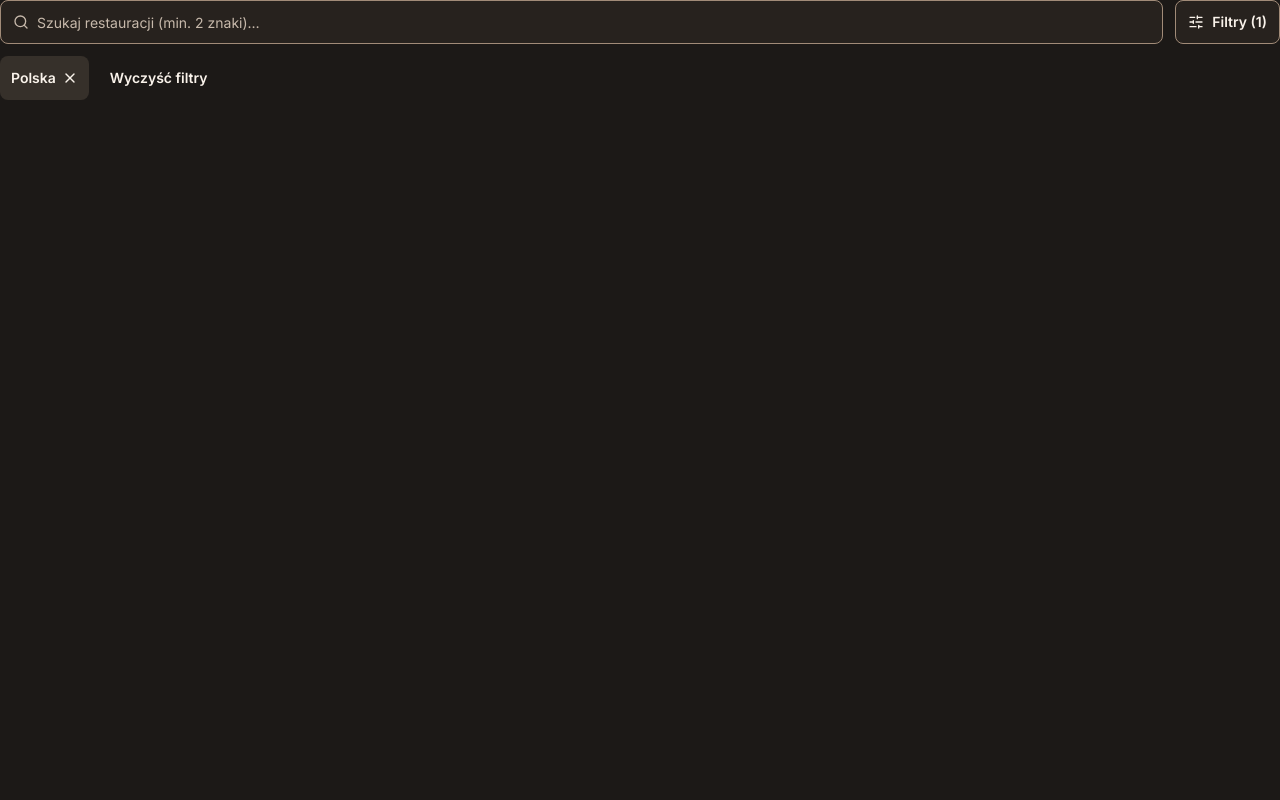
Test: restaurant filter panel › discards canceled choices and reopens the applied filters
Click the button with aria-label "Pokaż filtry": [1228, 22] box x1=1175 y1=0 x2=1279 y2=44
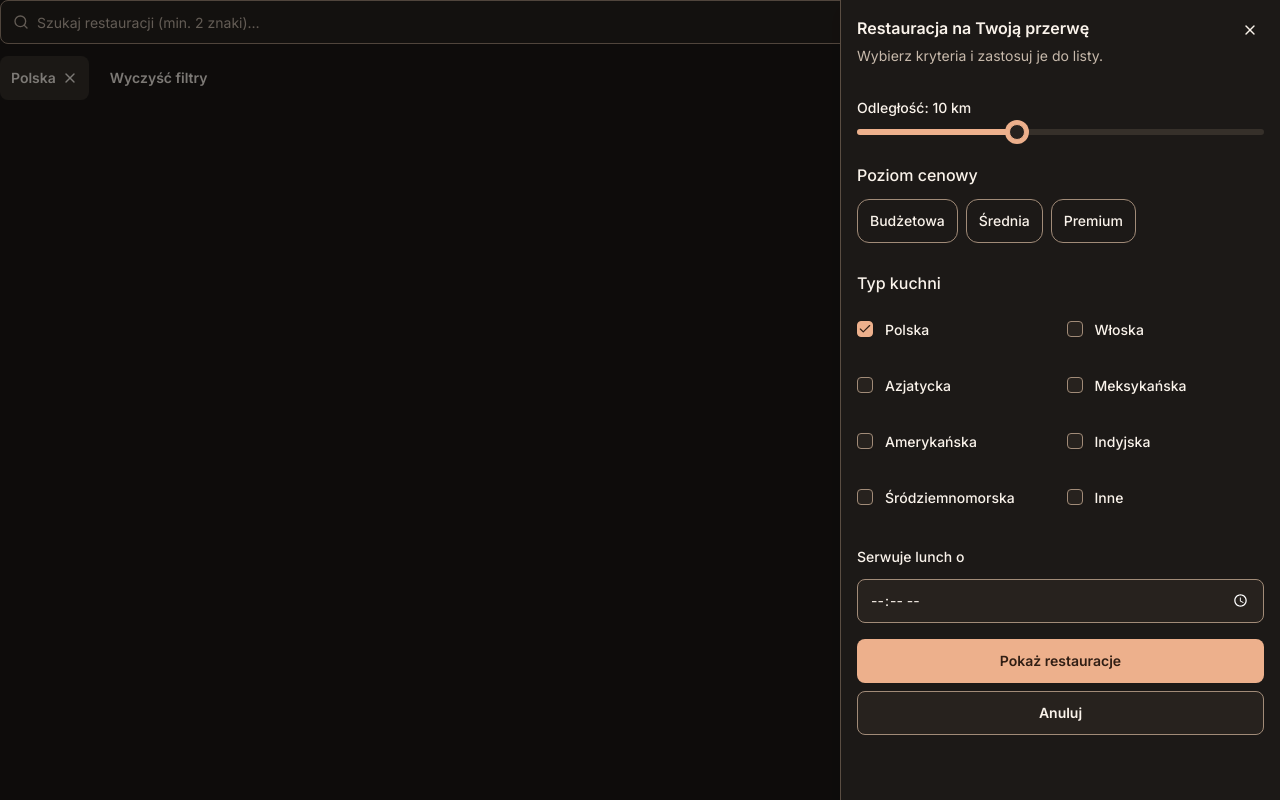
Click the 1st checkbox named "Polska": [865, 329] box x1=857 y1=321 x2=873 y2=337
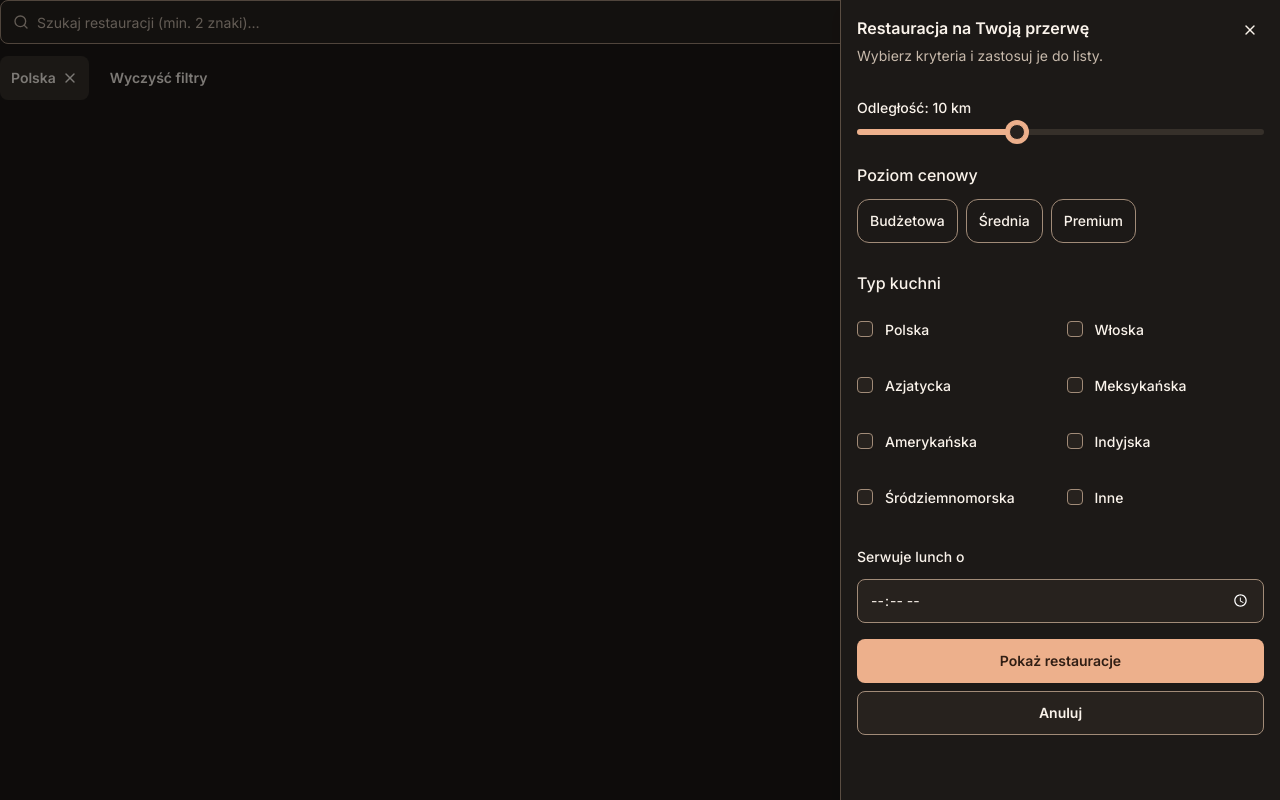
Click the button "Premium": [1093, 221] box x1=1051 y1=199 x2=1136 y2=243
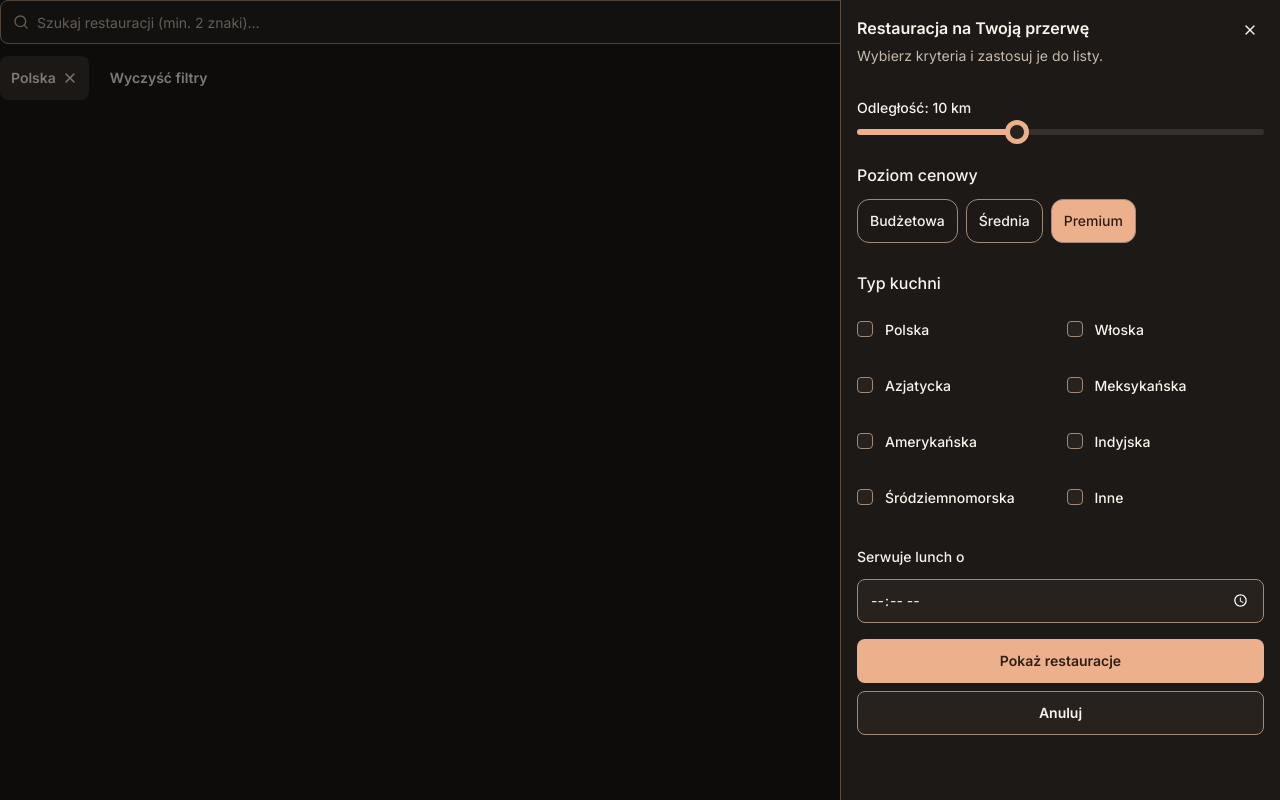
Click the button "Anuluj": [1060, 712] box x1=857 y1=690 x2=1264 y2=734
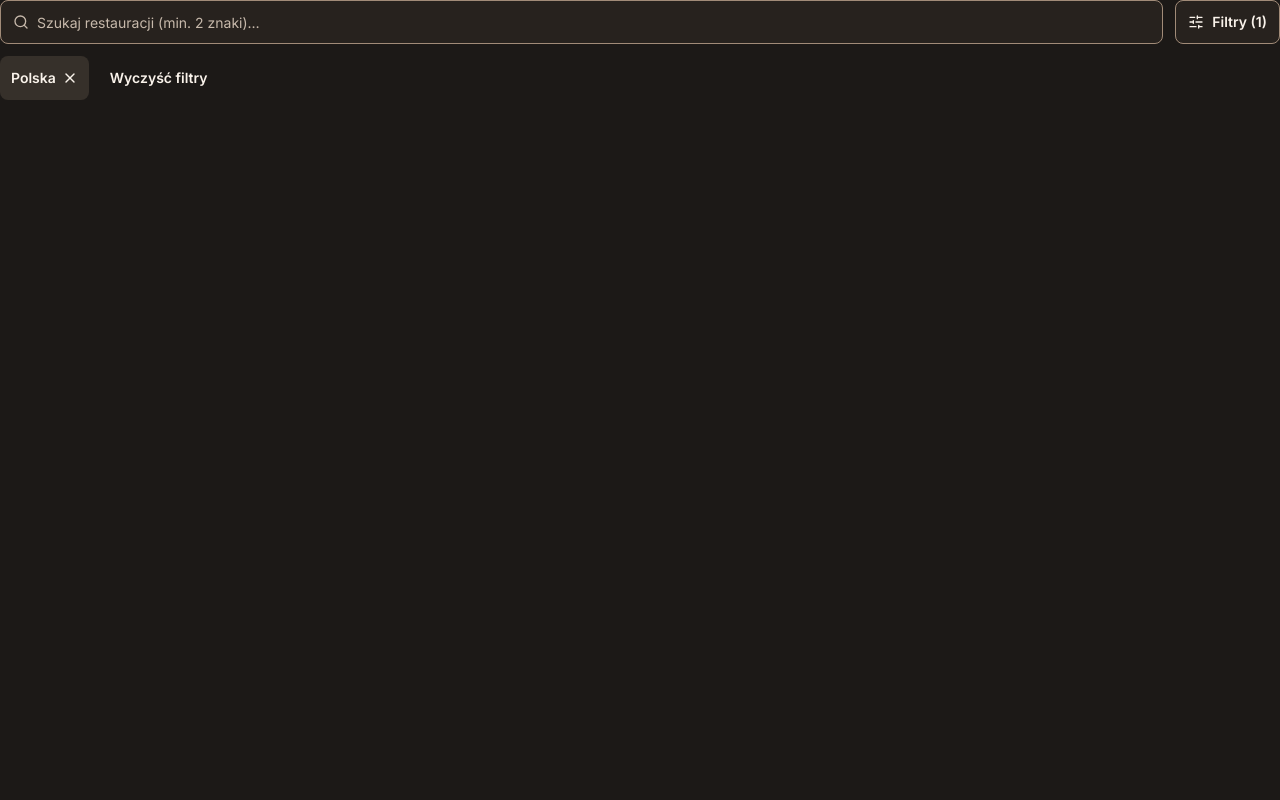
Click the button with aria-label "Pokaż filtry": [1228, 22] box x1=1175 y1=0 x2=1279 y2=44
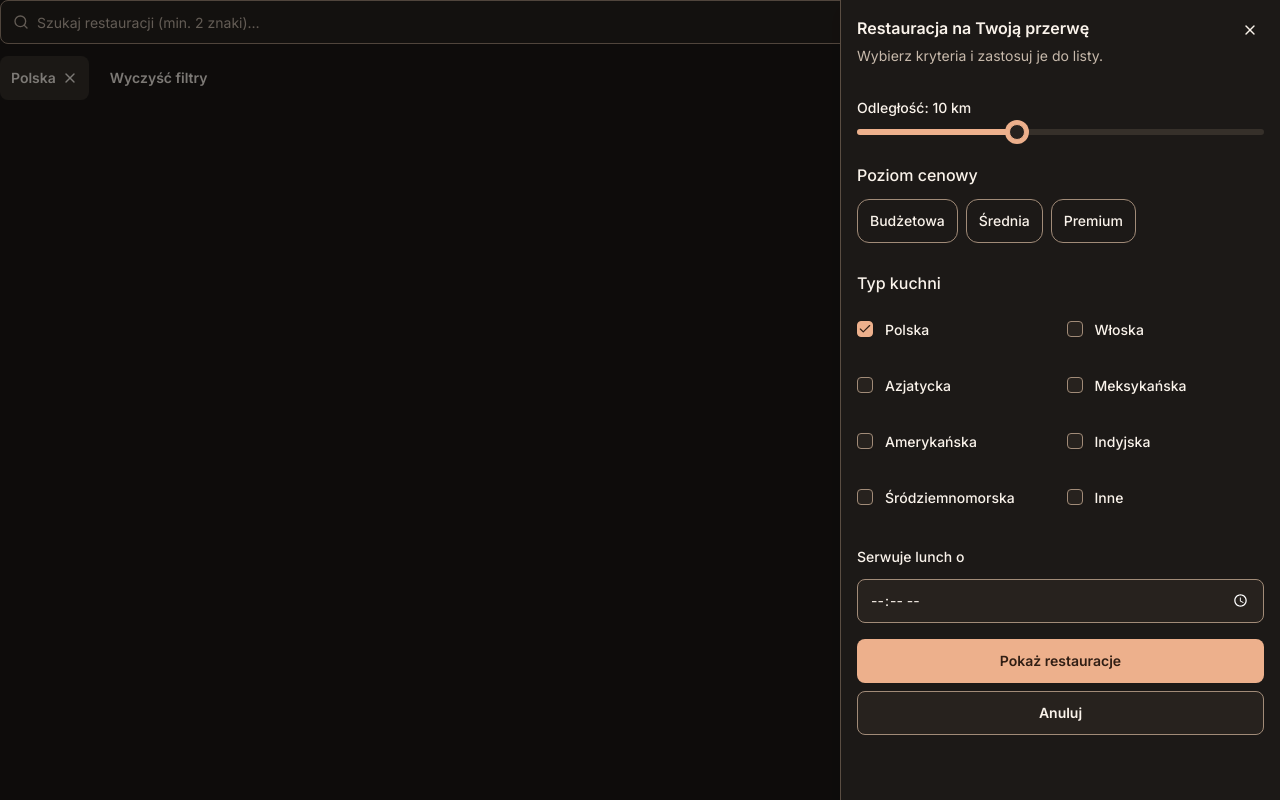
Expected: the 1st checkbox named "Polska" is checked, x1=857 y1=321 x2=873 y2=337
